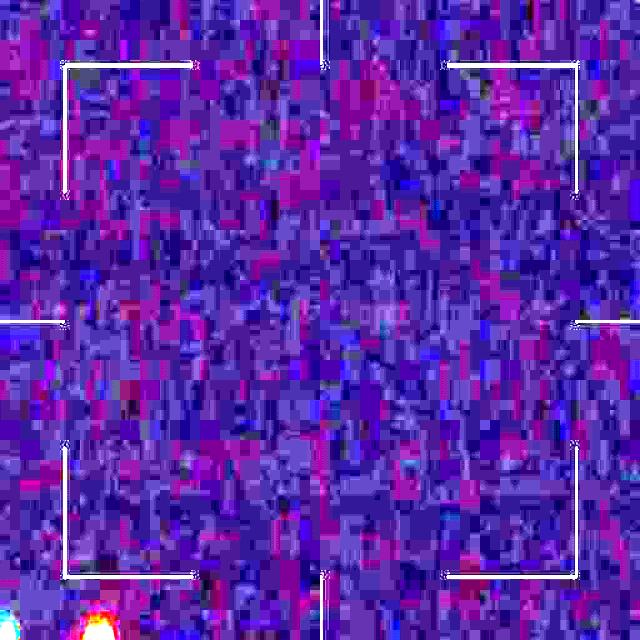bird: (0, 620, 112, 640)
